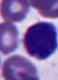L: (22, 21, 58, 60)
